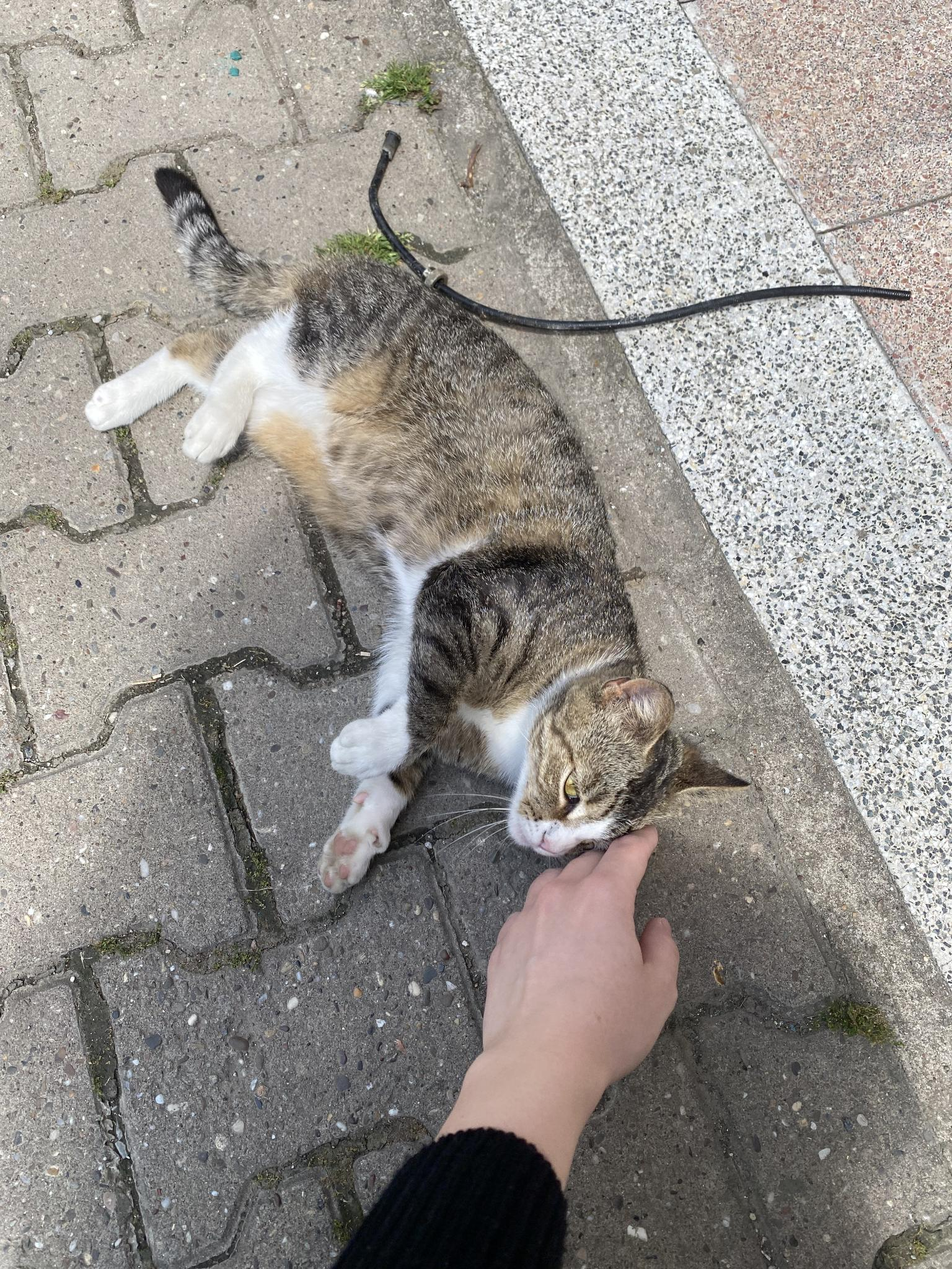macka: (86, 166, 745, 892)
